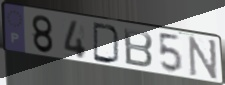4: (62, 19, 88, 60)
5: (157, 31, 185, 76)
8: (30, 14, 55, 55)
B: (122, 27, 154, 70)
D: (92, 21, 123, 66)
N: (189, 36, 219, 83)
